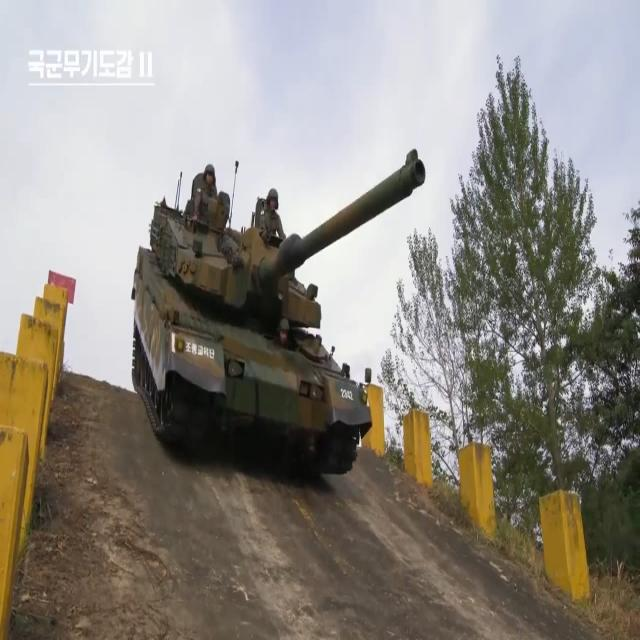korea tank: (130, 145, 427, 478)
